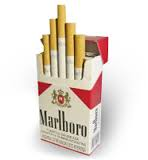marlboro: (37, 66, 91, 152)
